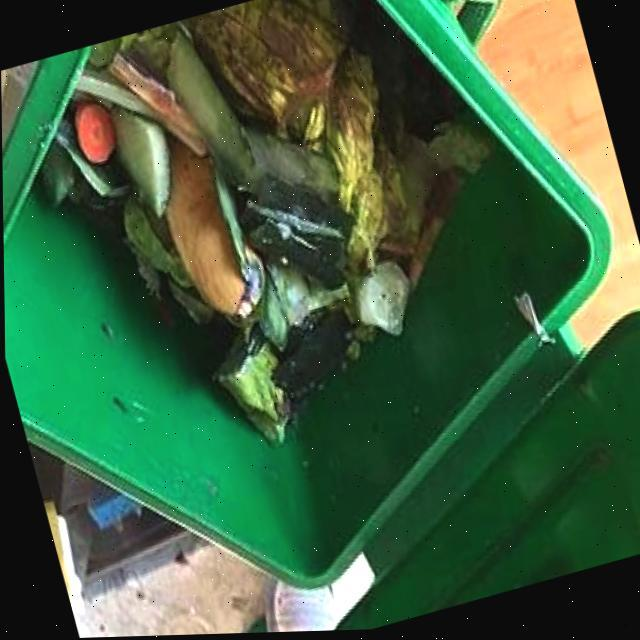Garbage: (33, 0, 493, 449)
Plastic_Bag: (271, 308, 356, 407)
